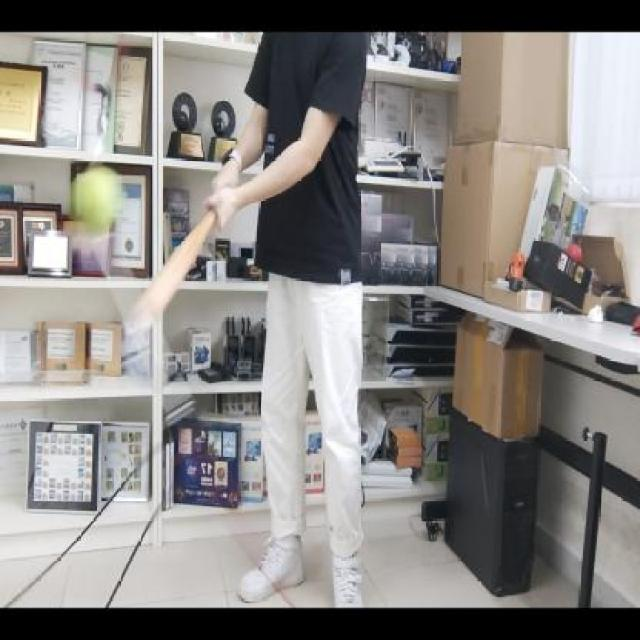baseball: (73, 165, 122, 228)
